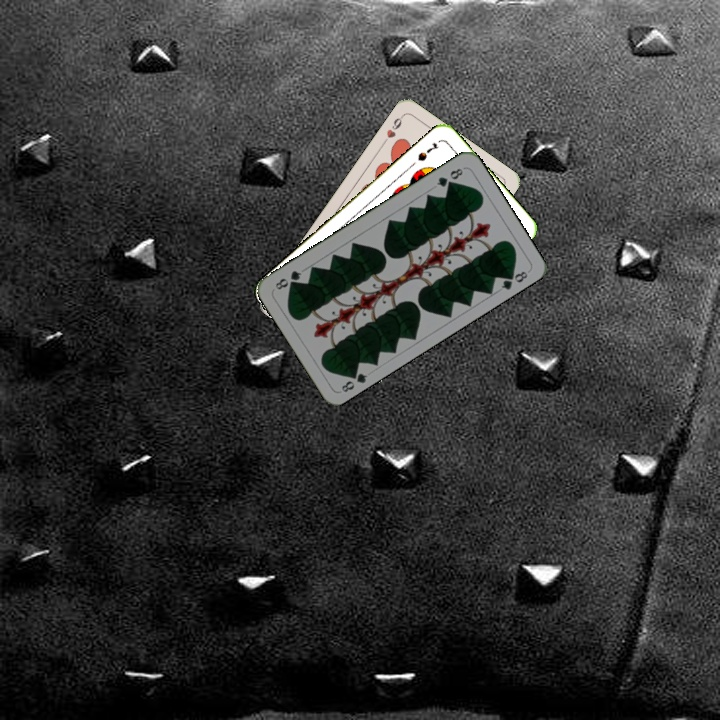G8: (337, 366, 370, 395), (432, 164, 466, 190)
H9: (378, 111, 406, 147)
S7: (414, 139, 442, 164)
